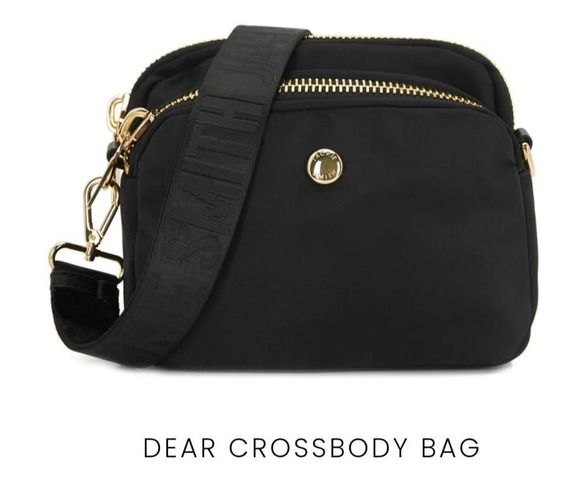cartera: (47, 22, 540, 374)
